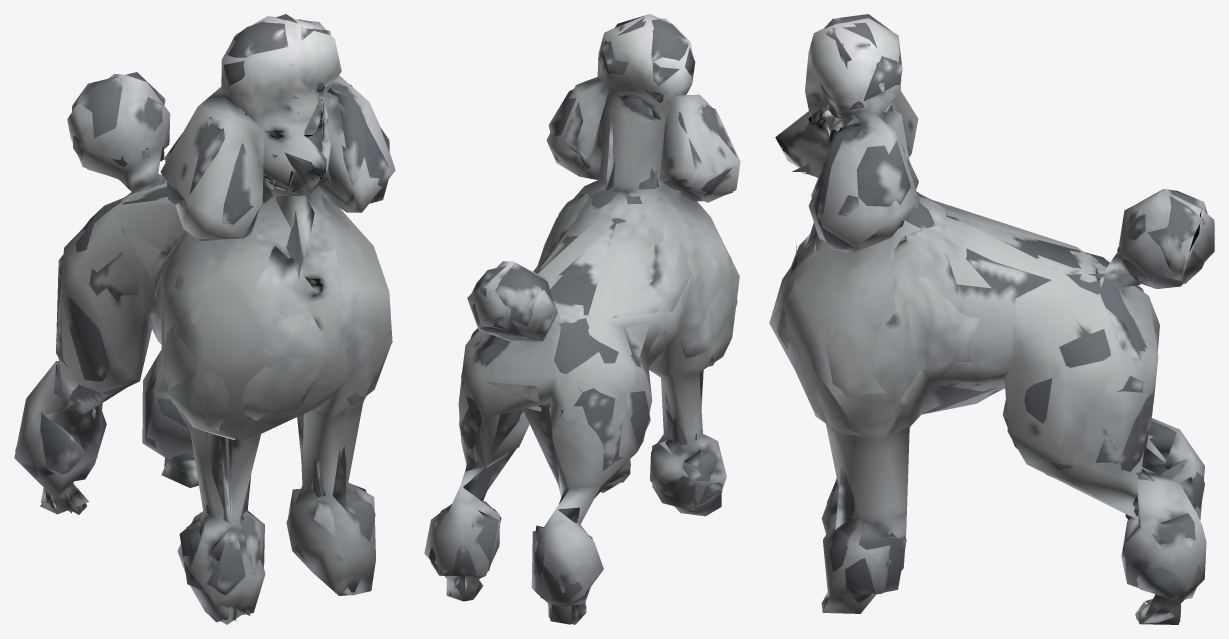
File: detail_6_lo2.glb
3 views of the same model, side by side, from view 1: azimuth 30°, elevation 25°; view 2: azimuth 150°, elevation 25°; view 3: azimuth 270°, elevation 25° (orthographic). The views are drawn at different scales.
Visible parts, largest first — view 1: Mesh_0.001; view 2: Mesh_0.001; view 3: Mesh_0.001.
Boxes of the visible parts, <box> form: Mesh_0.001: <box>14,14,395,624</box>; Mesh_0.001: <box>424,14,740,624</box>; Mesh_0.001: <box>769,14,1214,624</box>.
Bounding box in the file's own units: 0.3737 × 0.9958 × 0.7058.
1 material, 1 textured.
